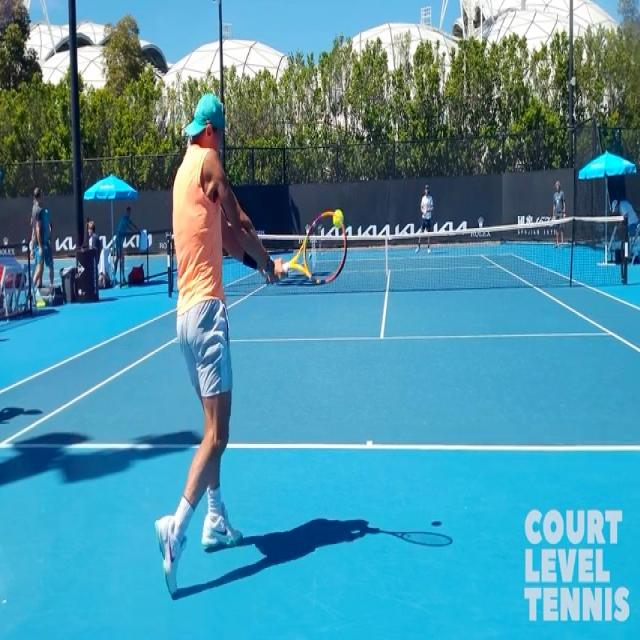backhand-stroke: (156, 93, 343, 608)
